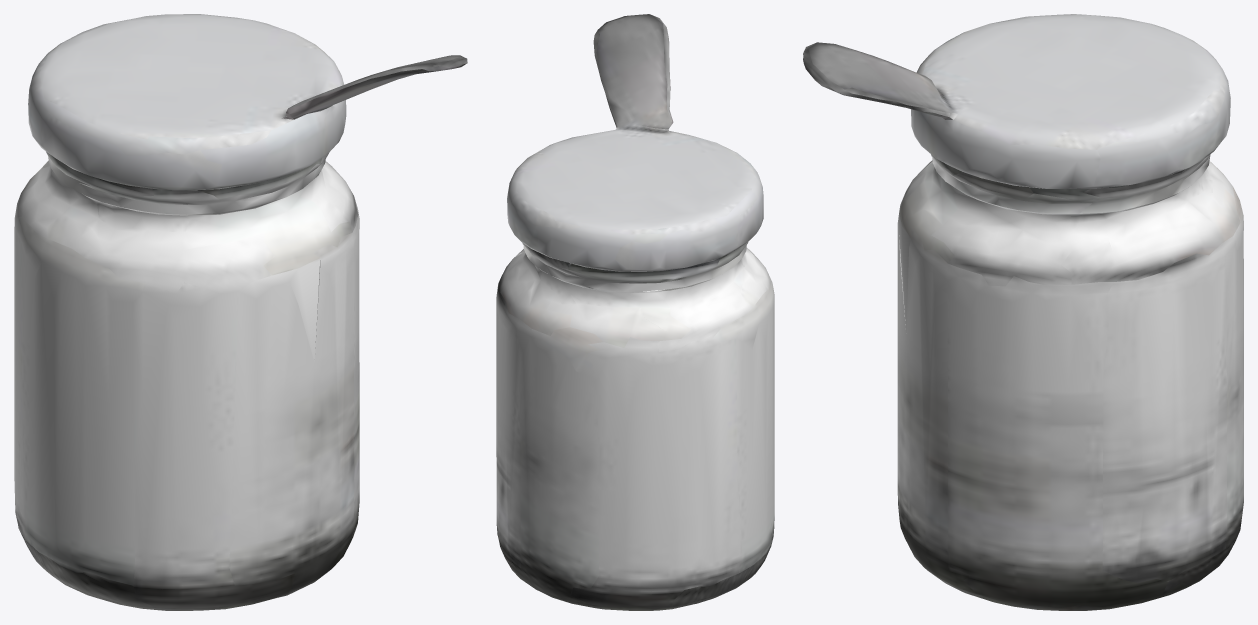
Rendered from sugar.glb.
The picture shows the model from 3 angles, left to right: view 1: azimuth 30°, elevation 25°; view 2: azimuth 150°, elevation 25°; view 3: azimuth 270°, elevation 25°; orthographic projection. The views are drawn at different scales.
Visible parts, largest first — view 1: sugar; view 2: sugar; view 3: sugar.
Part boxes in pixels (x1=…): sugar: x1=14, y1=14, x2=467, y2=610; sugar: x1=496, y1=14, x2=774, y2=610; sugar: x1=803, y1=14, x2=1243, y2=610.
Bounding box in the file's own units: 0.0819 × 0.14 × 0.1005.
Materials: 1 (1 with a texture image).
